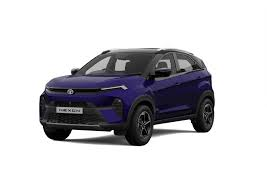Tata Nexon: (38, 48, 215, 147)
